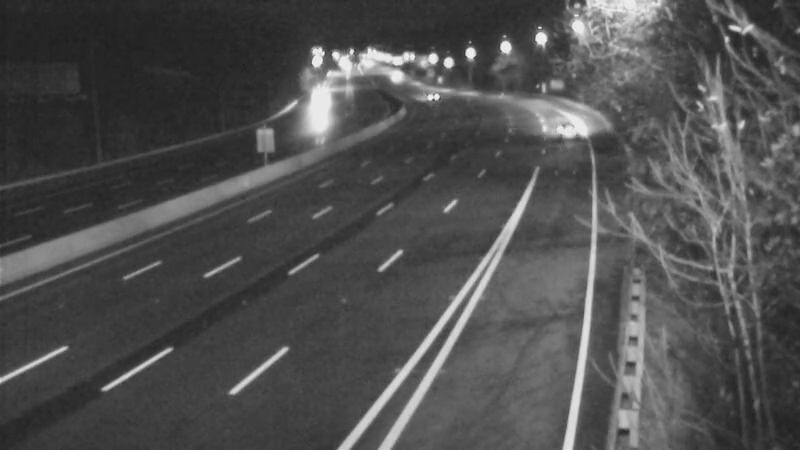vehicle: (368, 52, 418, 102), (406, 69, 456, 119), (532, 101, 582, 151), (290, 77, 340, 127)
